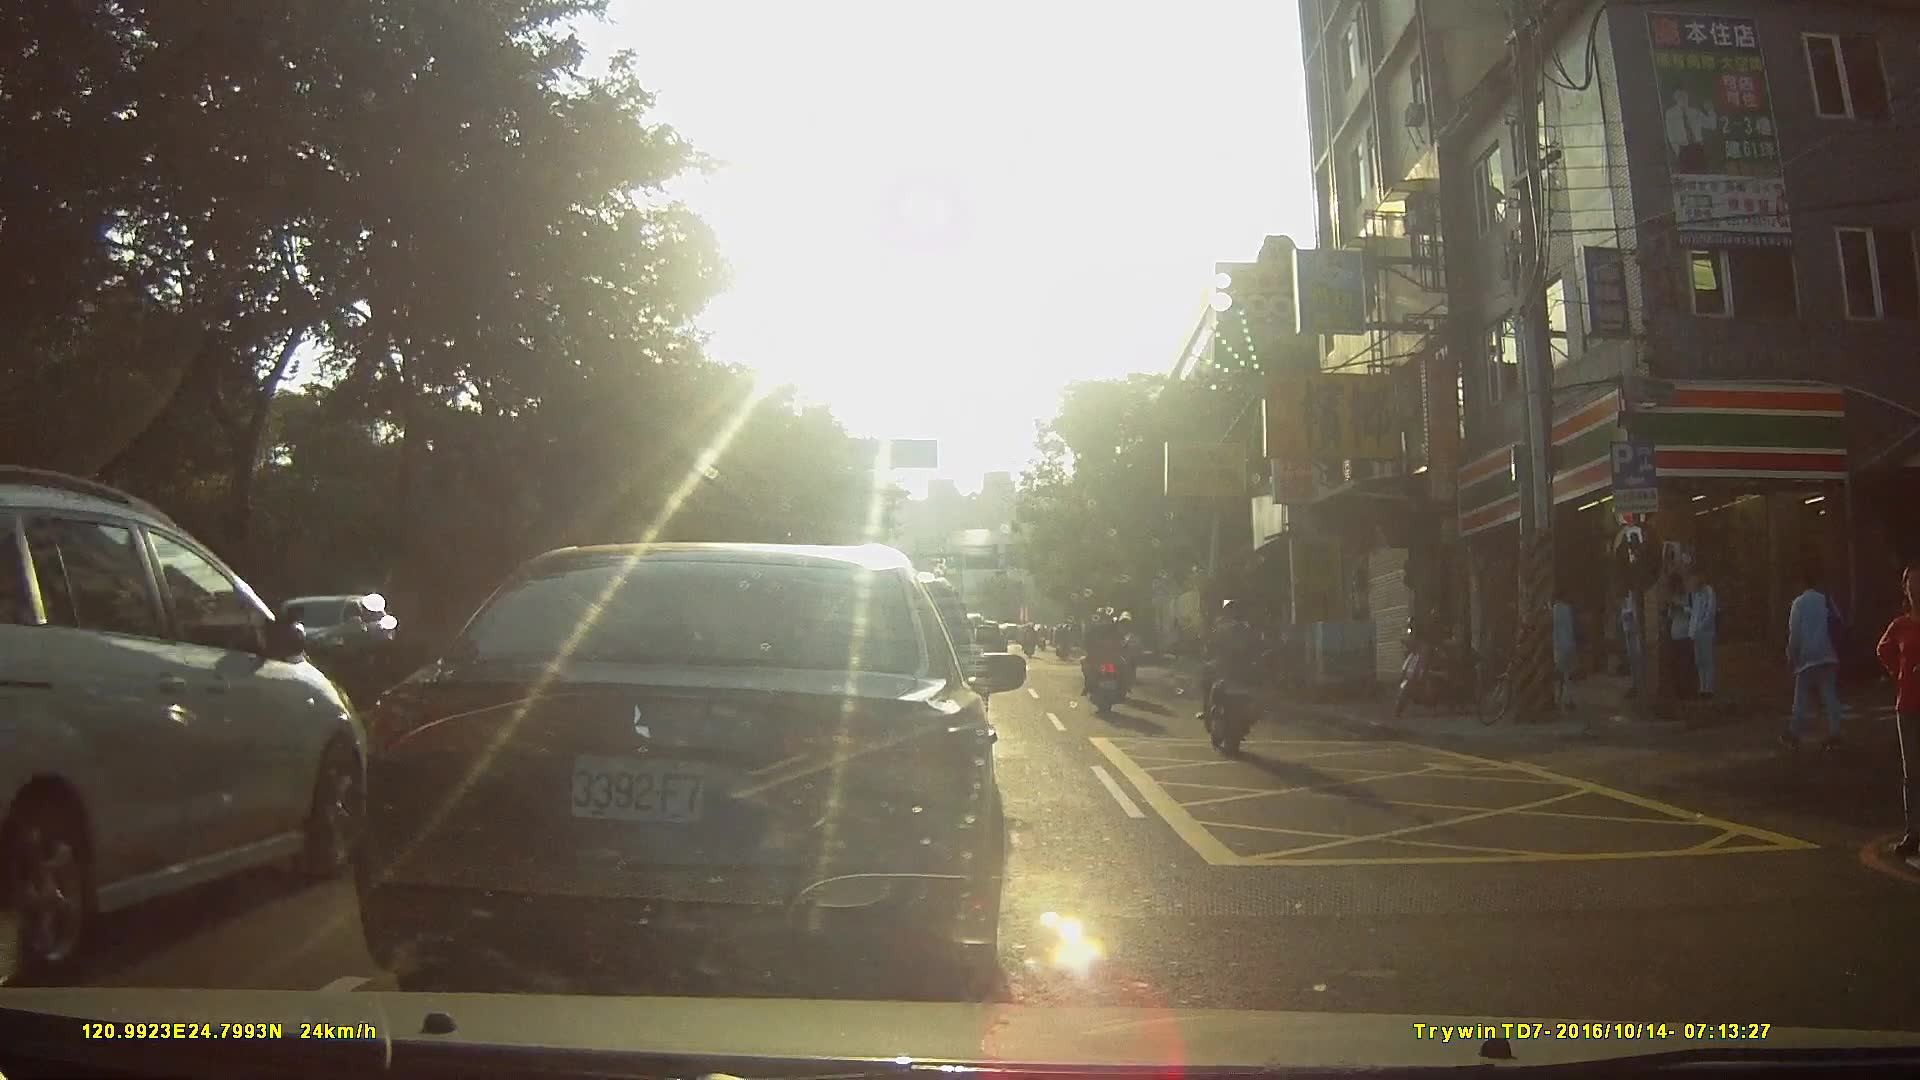pedestrian: (1776, 566, 1850, 758), (1875, 567, 1920, 854), (1528, 579, 1576, 715), (1677, 569, 1720, 700), (1614, 573, 1655, 708), (1662, 567, 1700, 711)
rider: (1198, 596, 1269, 761), (1081, 609, 1131, 716), (1053, 622, 1074, 663), (1020, 624, 1040, 662)
vehicle: (344, 543, 1036, 983), (1, 458, 409, 946)
